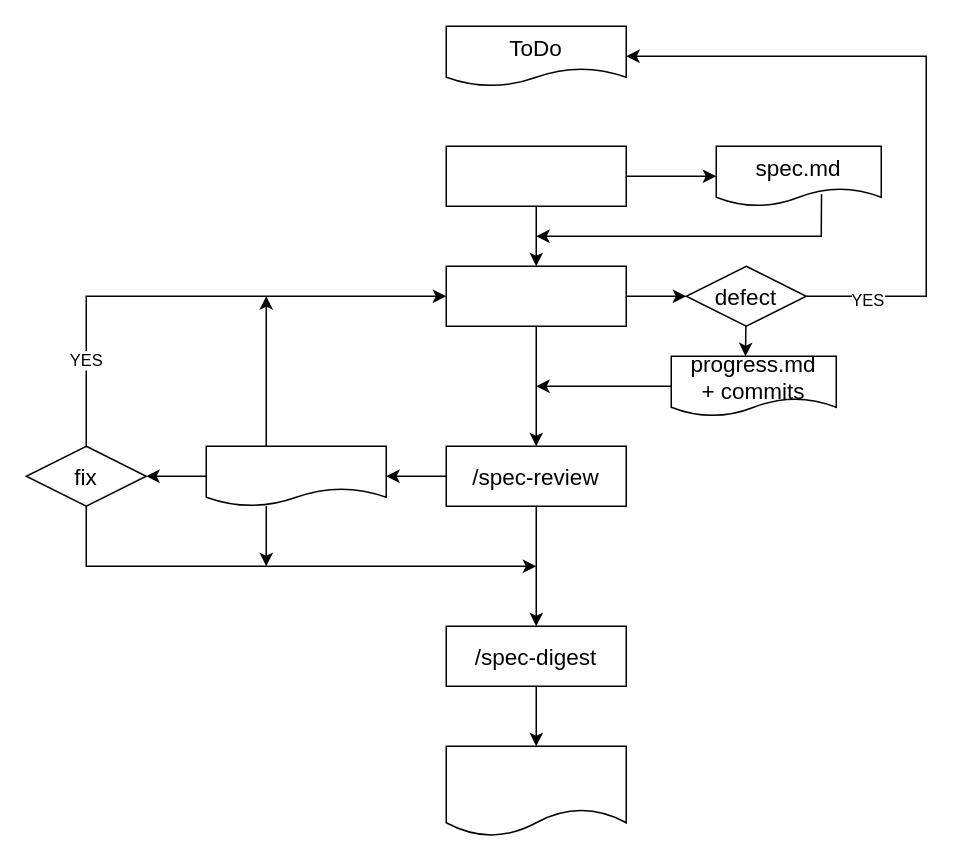
Image size: 965x863. Some labels were removed from this diagram. The shapes that lost their labels are listed below. From the top down, each one's centre as x and y in pixels, then its label:
At point (535, 175): "/spec-design".
At point (535, 295): "/spec-implement".
At point (295, 475): "findings.md".
At point (535, 790): "digests.md + index.md".
